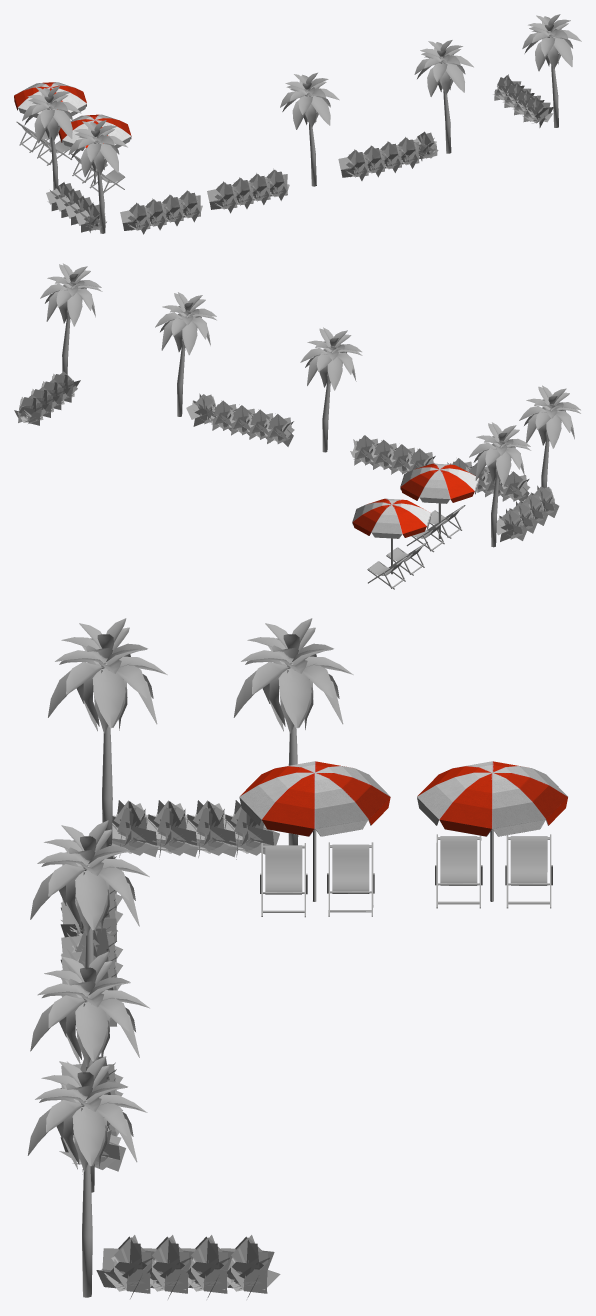
File: Villa1.fbx
3 renders of one model, top to bottom at view 1: azimuth 30°, elevation 25°; view 2: azimuth 150°, elevation 25°; view 3: azimuth 270°, elevation 25°, orthographic. The views are drawn at different scales.
Parts seen in each view (by area): view 1: Tree, Bushesh, Umbrella; view 2: Tree, Bushesh, Umbrella; view 3: Tree, Umbrella, Bushesh.
Boxes of the visible parts, x1=… form: Tree: x1=22, y1=14, x2=581, y2=233; Bushesh: x1=46, y1=74, x2=553, y2=234; Umbrella: x1=14, y1=82, x2=131, y2=193; Tree: x1=40, y1=263, x2=580, y2=547; Bushesh: x1=14, y1=371, x2=559, y2=541; Umbrella: x1=352, y1=463, x2=479, y2=589; Tree: x1=27, y1=618, x2=353, y2=1297; Umbrella: x1=239, y1=761, x2=567, y2=917; Bushesh: x1=59, y1=800, x2=280, y2=1298.
Bounding box in the file's own units: 24.56 × 5.44 × 11.59.
